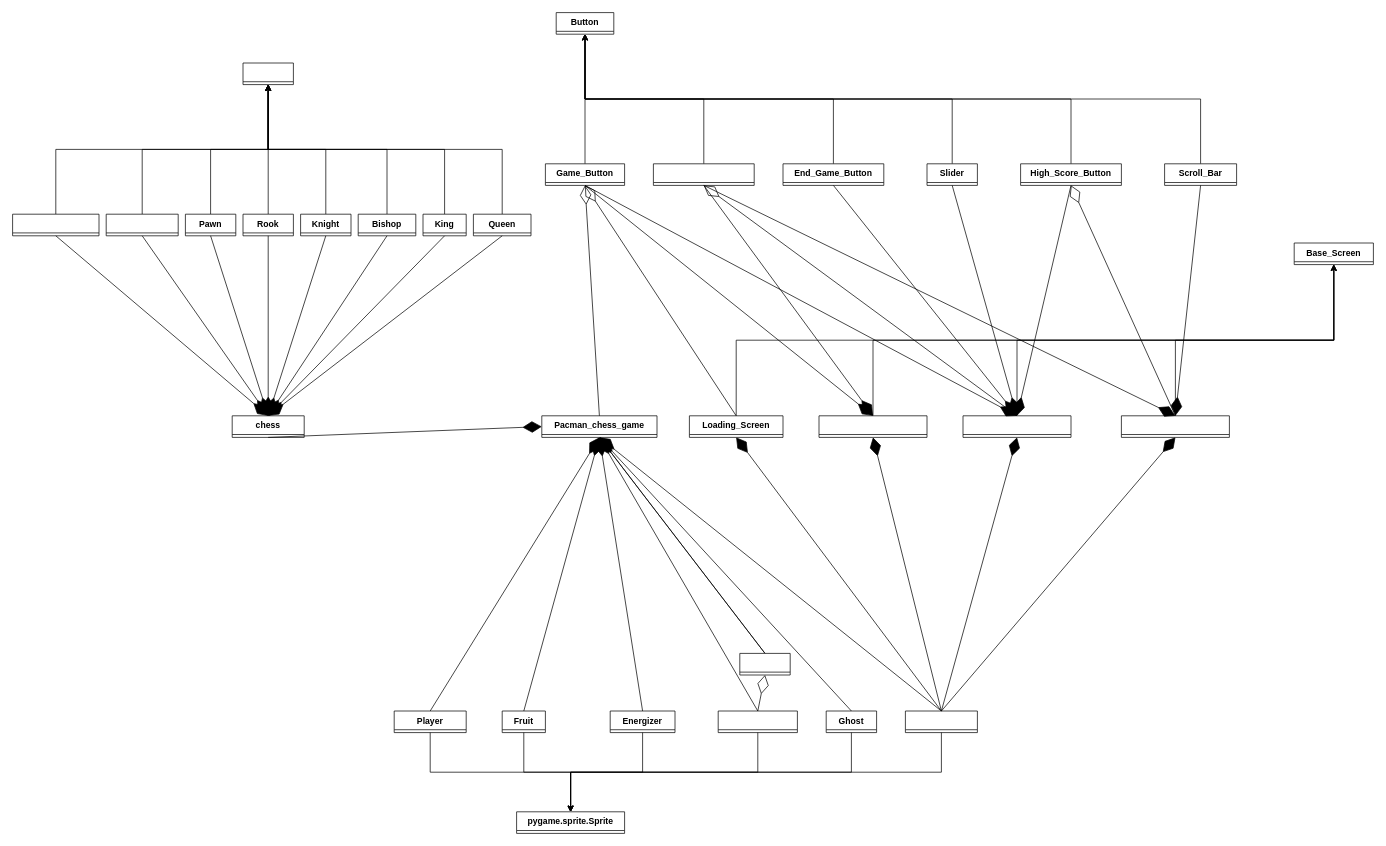
This 1386x846 diagram has some shape labels left out. Each missing label, with the centre of its shape:
"Board" belongs at (x=764, y=664).
"Chess_Piece" belongs at (x=757, y=721).
"Empty_Cell" belongs at (x=141, y=224).
"High_Score_Screen" belongs at (x=1175, y=426).
"Main_Menu_Button" belongs at (x=703, y=174).
"Main_Menu_Screen" belongs at (x=1016, y=426).
"Piece" belongs at (x=267, y=73).
"Play_Again_Screen" belongs at (x=872, y=426).
"Shadow_Pawn" belongs at (x=55, y=224).
"Text_Box" belongs at (x=941, y=721).
